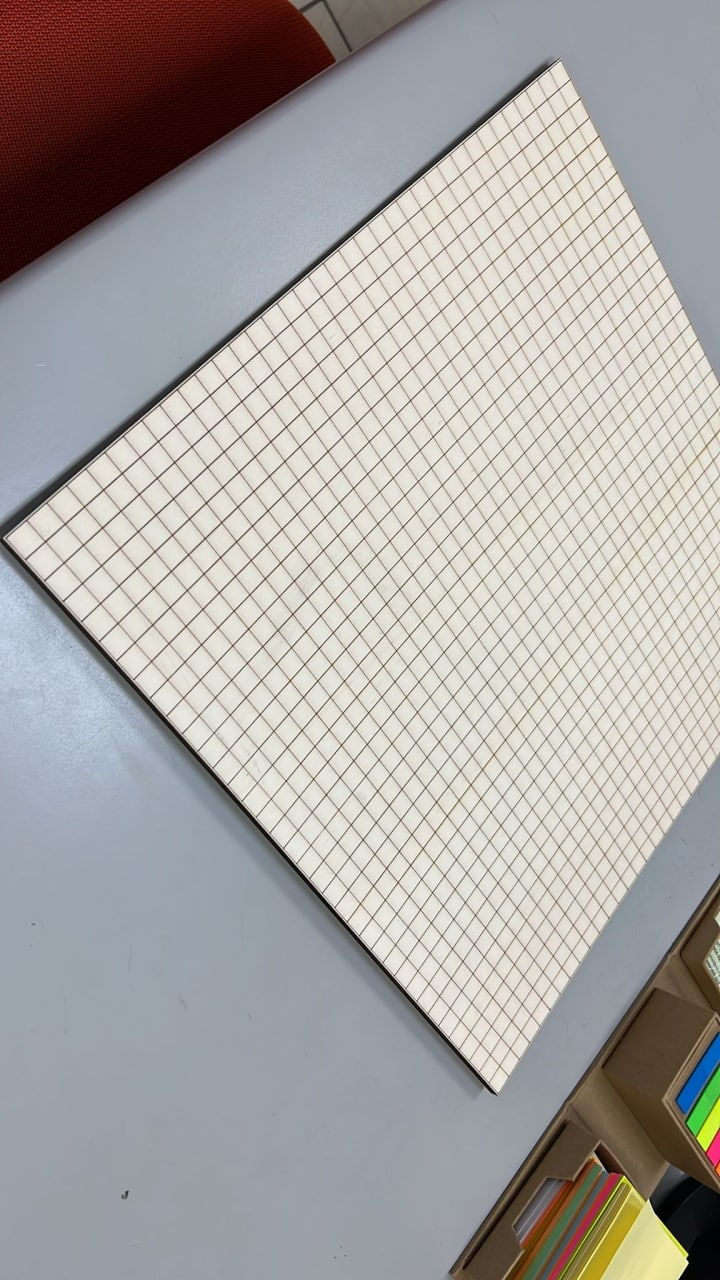grid: (2, 52, 720, 1101)
